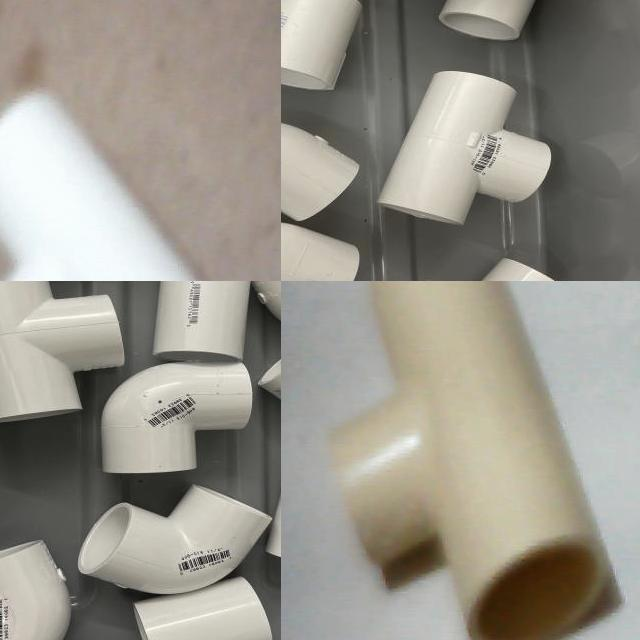L Joint: (77, 486, 271, 594), (102, 361, 257, 479), (281, 124, 359, 224), (0, 540, 75, 640), (281, 222, 360, 281)
T Joint: (328, 281, 612, 640), (0, 91, 205, 281), (377, 71, 553, 227)
